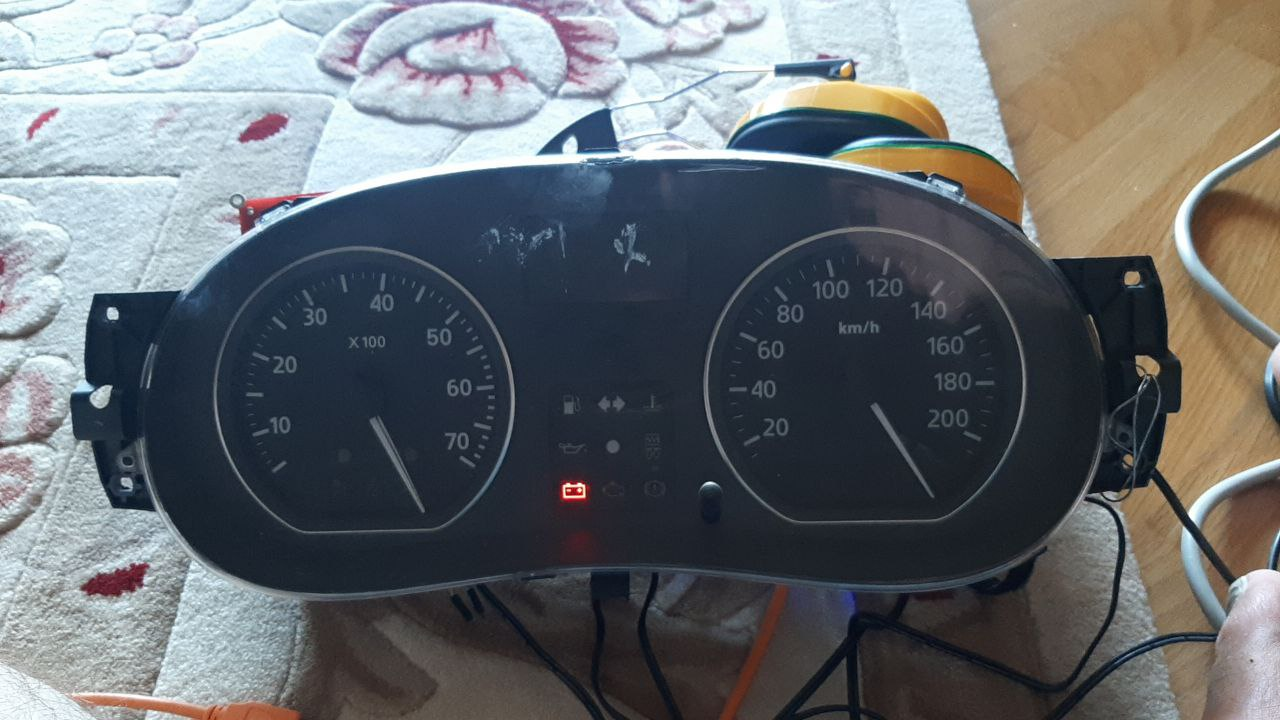accumulator: (560, 482, 586, 506)
